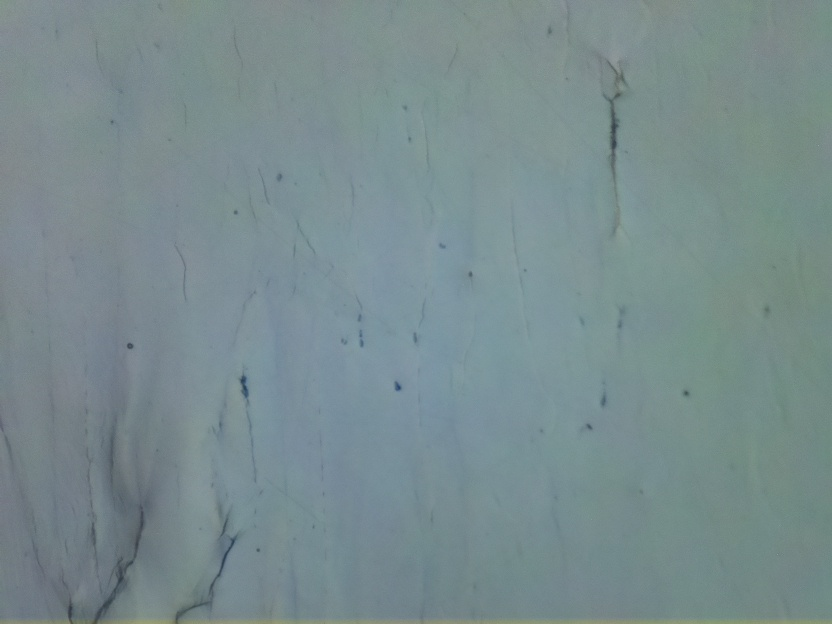crack: (65, 508, 150, 624), (173, 531, 242, 624), (603, 85, 625, 238)
